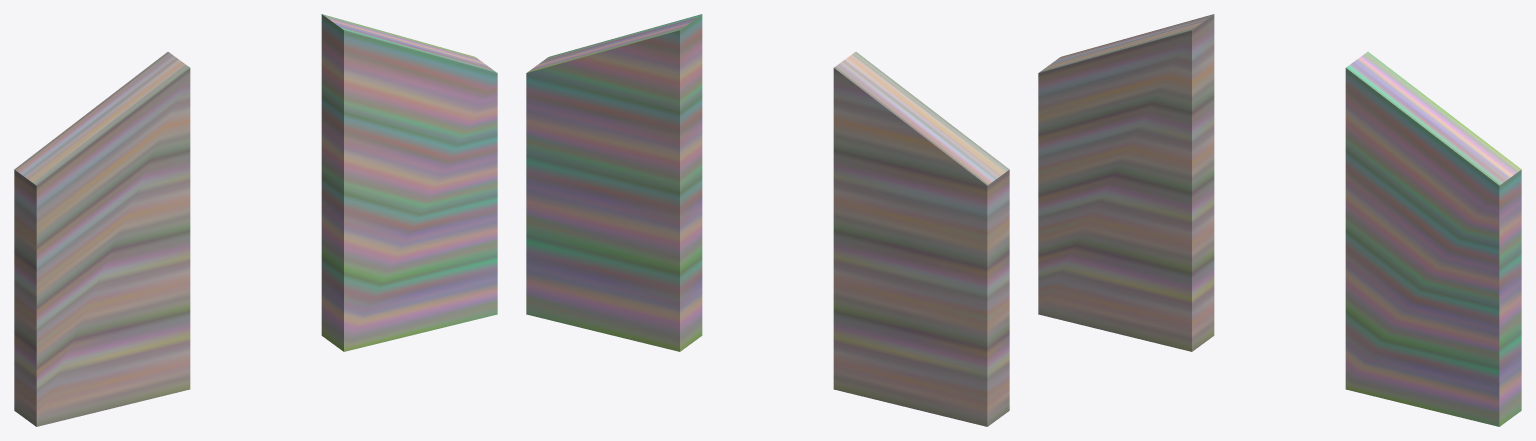
The model's file is construct_eyes_concern.obj.
3 renders of one model, left to right at view 1: azimuth 30°, elevation 25°; view 2: azimuth 150°, elevation 25°; view 3: azimuth 330°, elevation 25°, orthographic.
Parts seen in each view (by area): view 1: EYES_CONCERN_Cube.036; view 2: EYES_CONCERN_Cube.036; view 3: EYES_CONCERN_Cube.036.
Boxes of the visible parts, left/top/right/bottom form: EYES_CONCERN_Cube.036: left=14, top=14, right=497, bottom=426; EYES_CONCERN_Cube.036: left=526, top=14, right=1009, bottom=426; EYES_CONCERN_Cube.036: left=1038, top=14, right=1521, bottom=426.
Bounding box in the file's own units: 0.1875 × 0.125 × 0.0156.
